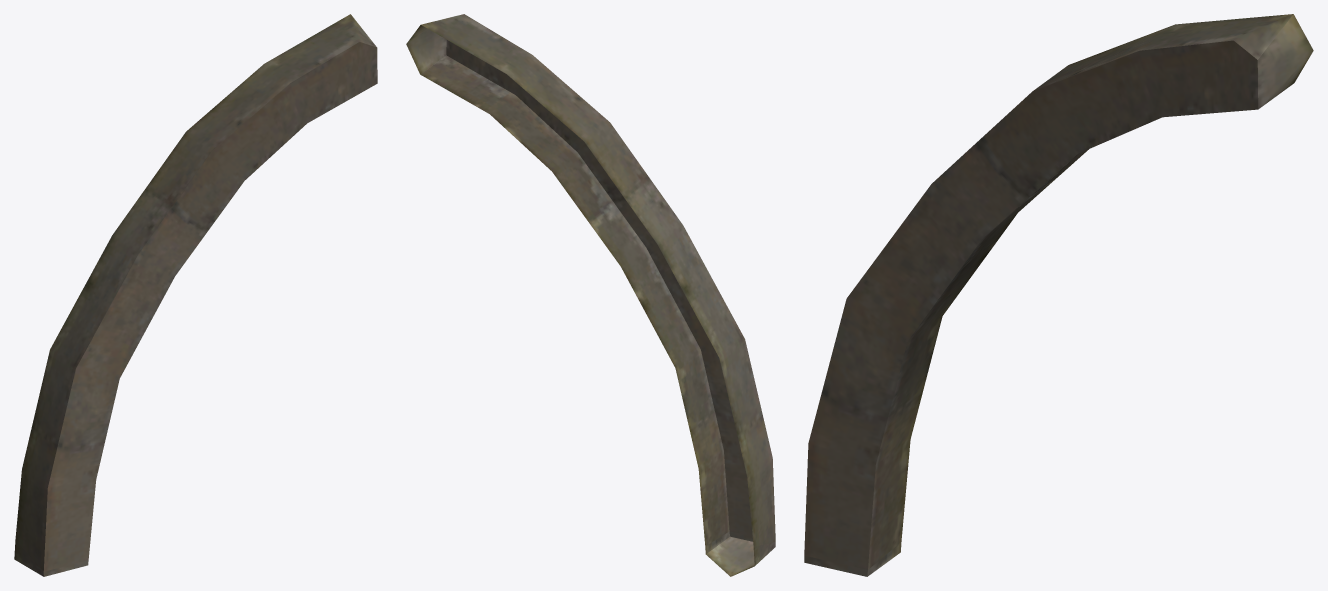
Rendered from border_c_90.glb.
3 views of the same model, side by side, from view 1: azimuth 30°, elevation 25°; view 2: azimuth 150°, elevation 25°; view 3: azimuth 330°, elevation 25° (orthographic). The views are drawn at different scales.
Parts seen in each view (by area): view 1: set_0_group_0; view 2: set_0_group_0; view 3: set_0_group_0.
Boxes of the visible parts, <box> form: set_0_group_0: <box>14,14,377,576</box>; set_0_group_0: <box>406,14,775,576</box>; set_0_group_0: <box>804,14,1313,576</box>.
Size of the model in its own units: 2.33 by 3.04 by 0.3037.
Materials: 1 (1 with a texture image).
